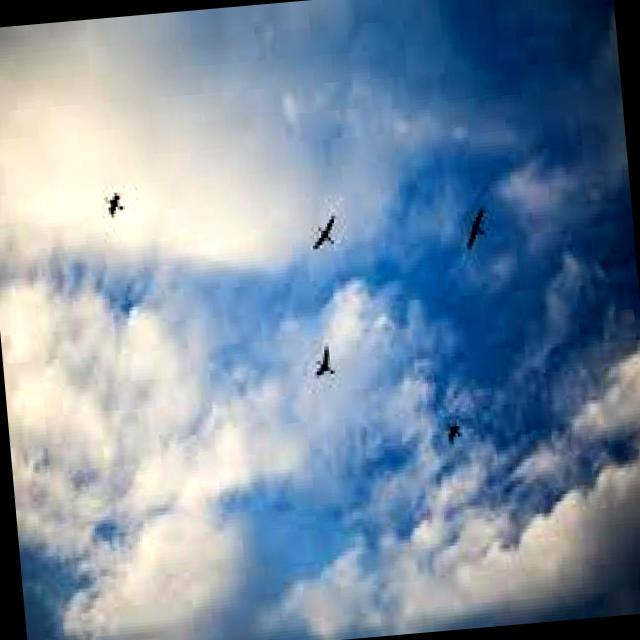bird: (296, 208, 349, 256), (306, 336, 342, 386), (460, 198, 490, 253), (92, 182, 131, 218), (440, 411, 472, 449)
